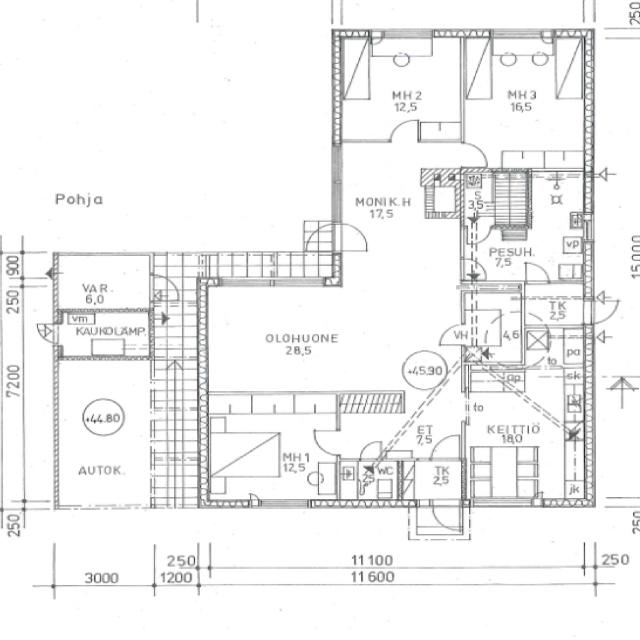door: (302, 225, 342, 251), (332, 225, 372, 251), (150, 275, 185, 301), (433, 498, 459, 530), (584, 301, 620, 324), (391, 116, 418, 143), (432, 434, 459, 461), (309, 431, 340, 454), (462, 144, 492, 167), (32, 324, 63, 344), (467, 225, 491, 250), (438, 325, 466, 345), (526, 260, 548, 284), (462, 260, 488, 280), (361, 440, 382, 461)
